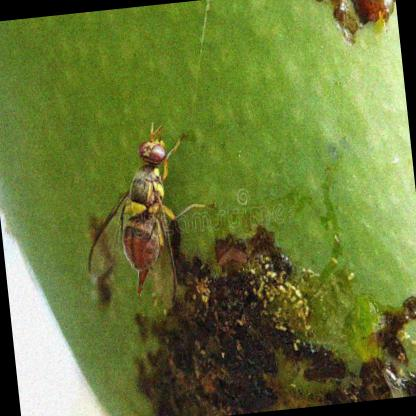fruit fly: (85, 121, 178, 310)
